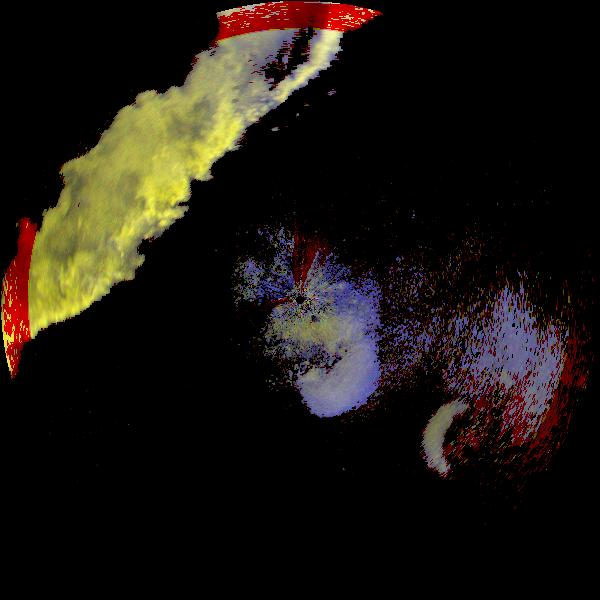roost: (235, 283, 400, 448), (403, 386, 520, 503)
